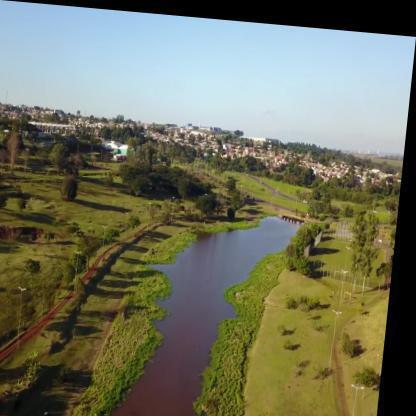agua: (165, 247, 219, 415), (219, 225, 254, 317), (135, 355, 169, 415), (258, 210, 295, 253)
